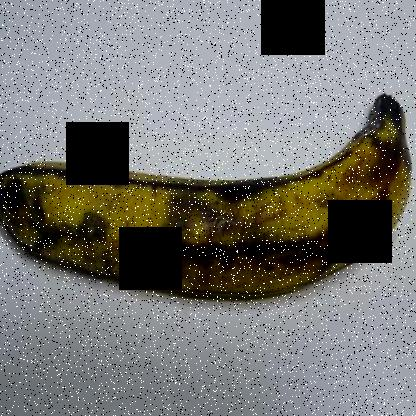overripe: (1, 76, 415, 324)
